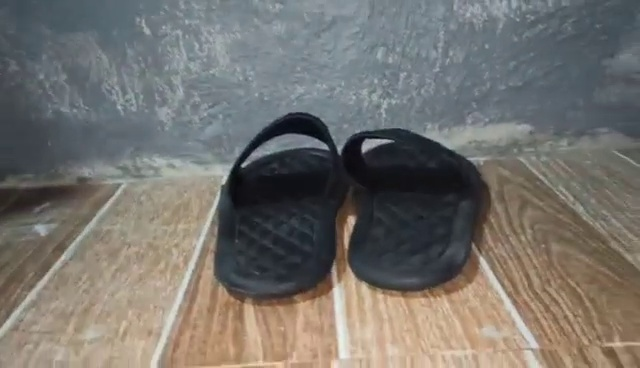slipper: (343, 115, 483, 298), (216, 113, 346, 303)
